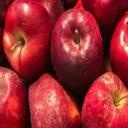apple: (0, 66, 29, 128)
